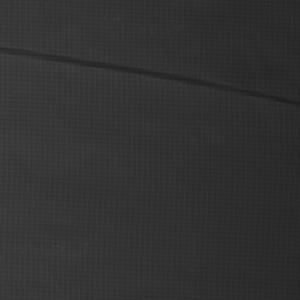Wrinkle: (1, 42, 300, 112)
